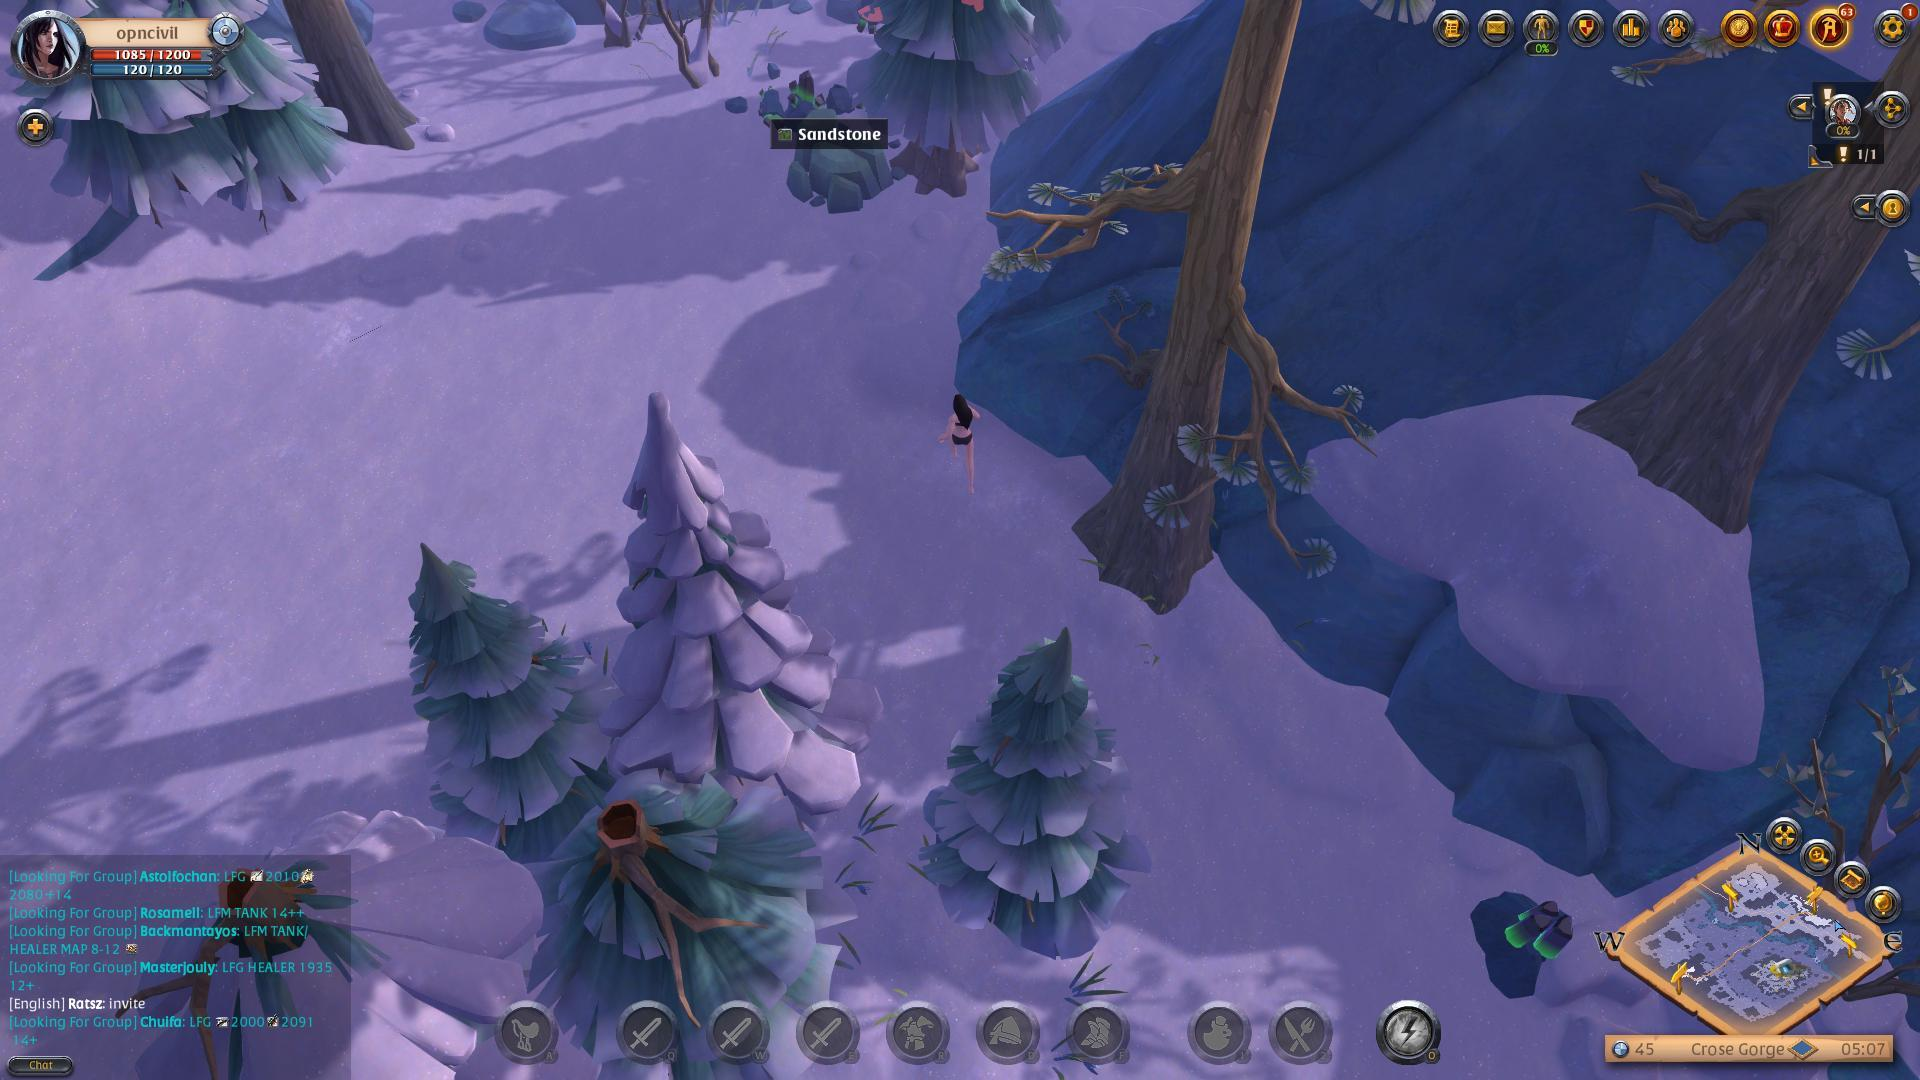tin_ore: (1460, 857, 1584, 1005)
